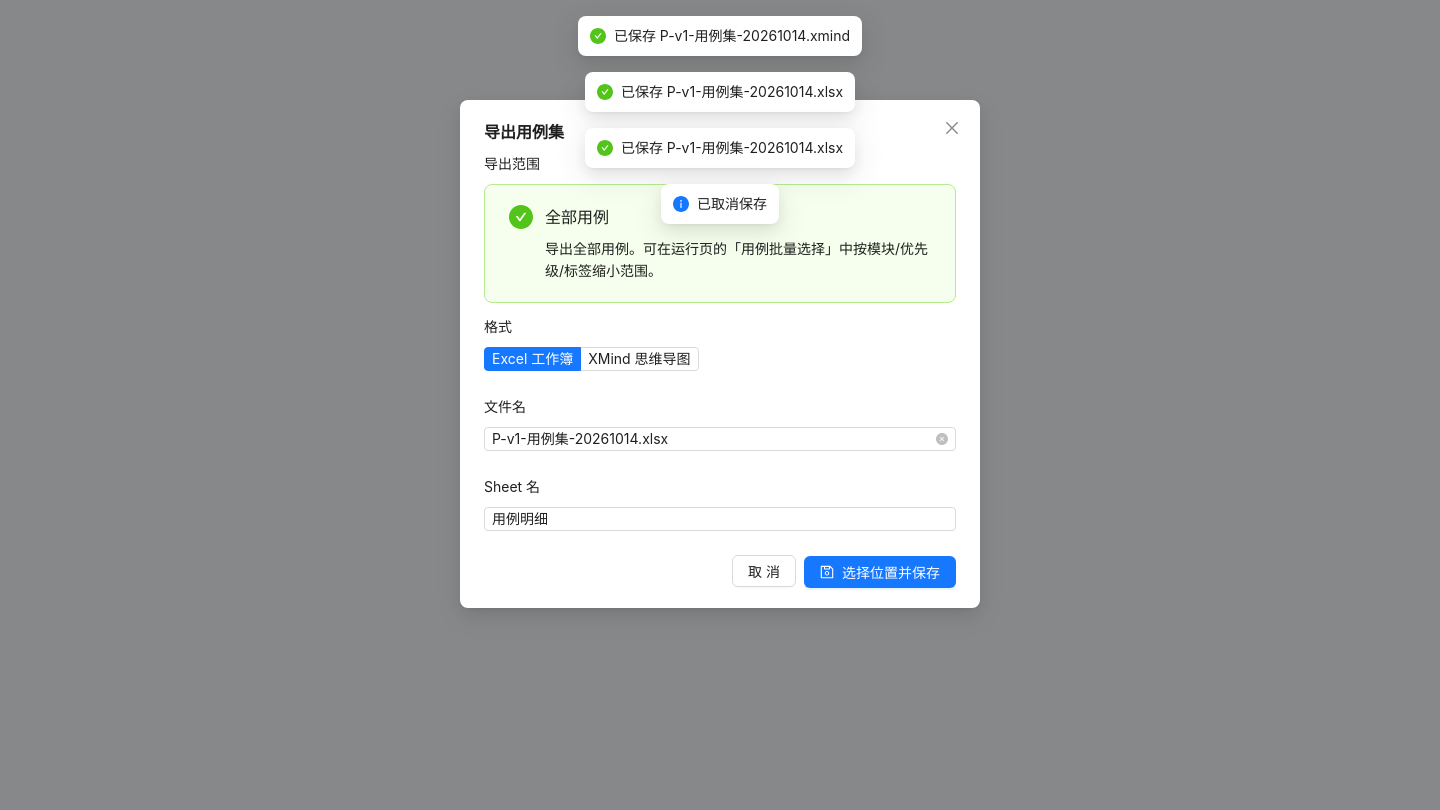
Test: 导出流程 › 后端校验失败时从 Blob 里解析出可读错误（不是笼统的「导出失败」）
This screenshot has width=1440, height=810.
Click the button "选择位置并保存" at (880, 572), box [804, 556, 956, 588]
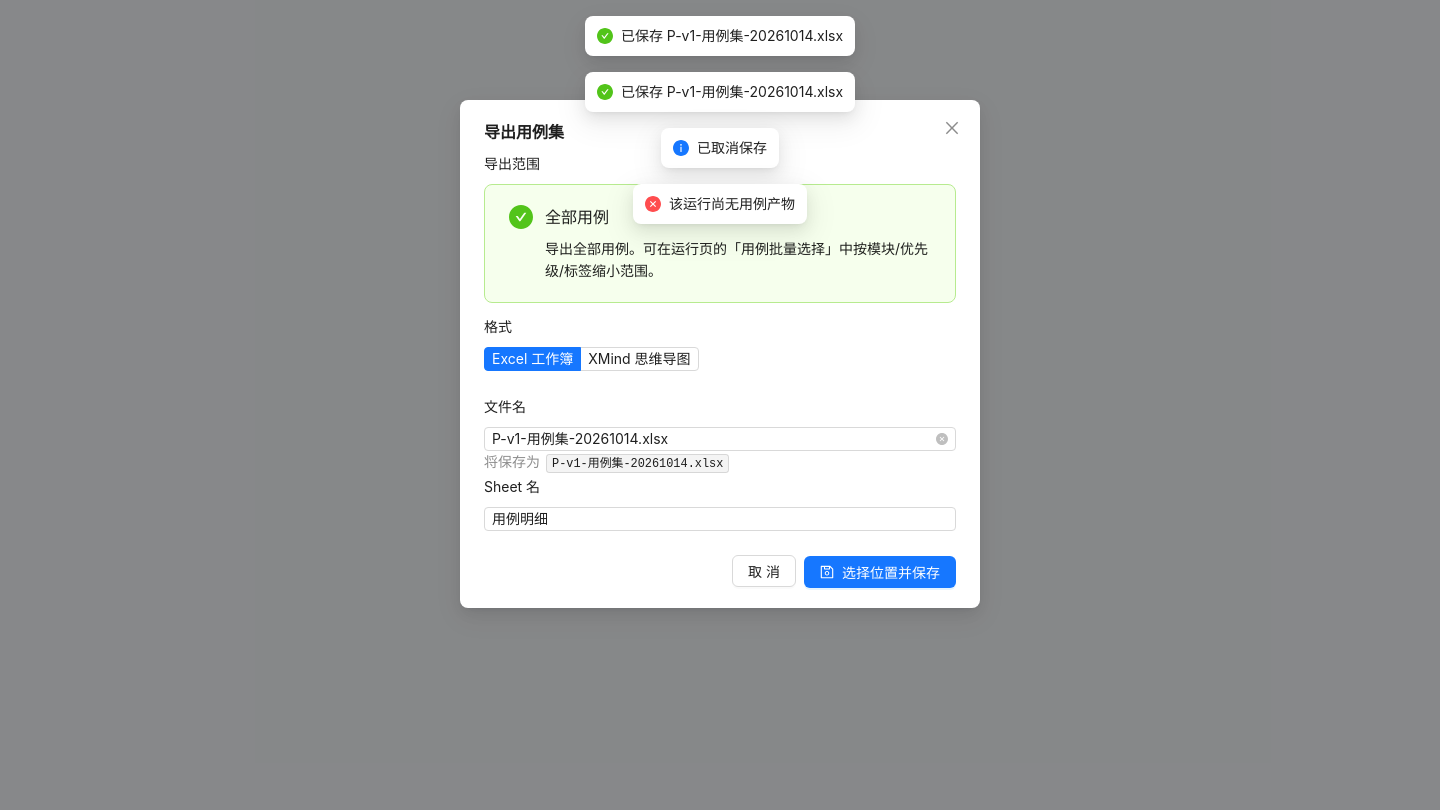
Check: the text "该运行尚无用例产物" is shown, box [669, 193, 795, 215]
